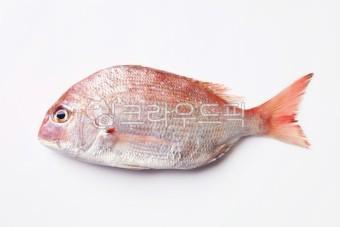fish: (38, 65, 314, 172)
